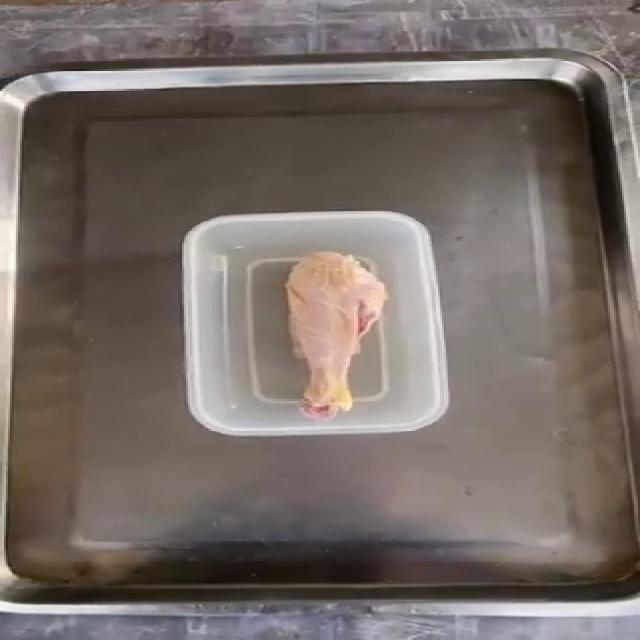chicken: (283, 250, 388, 420)
